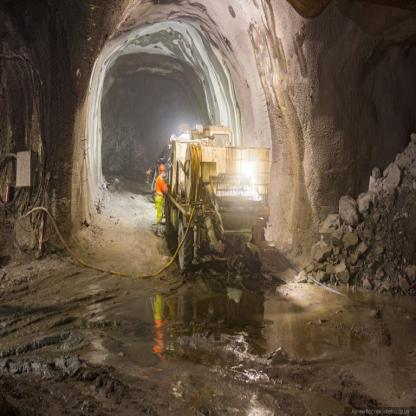person: (148, 158, 173, 240)
